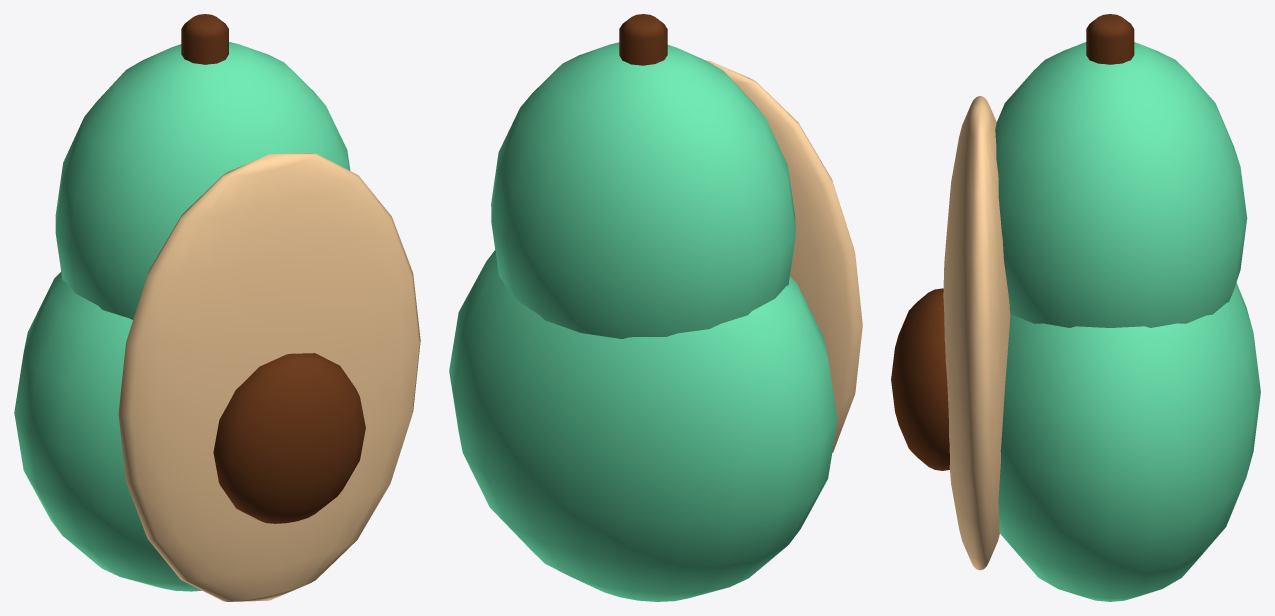
File: avocado.fbx
3 views of the same model, side by side, from view 1: azimuth 30°, elevation 25°; view 2: azimuth 150°, elevation 25°; view 3: azimuth 270°, elevation 25° (orthographic).
Visible parts, largest first — view 1: avocado; view 2: avocado; view 3: avocado.
Boxes of the visible parts, bbox=[...] form: avocado: bbox=[14, 14, 420, 601]; avocado: bbox=[449, 14, 862, 601]; avocado: bbox=[891, 14, 1260, 601].
Bounding box in the file's own units: 65.93 × 100 × 59.34.
1 material, 1 textured.
